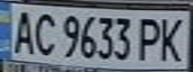3: (112, 14, 136, 62), (97, 14, 118, 61)
6: (78, 12, 100, 61)
9: (57, 11, 81, 58)
A: (6, 7, 39, 55)
C: (30, 9, 60, 56)
K: (154, 14, 190, 63)
P: (136, 15, 166, 62)
